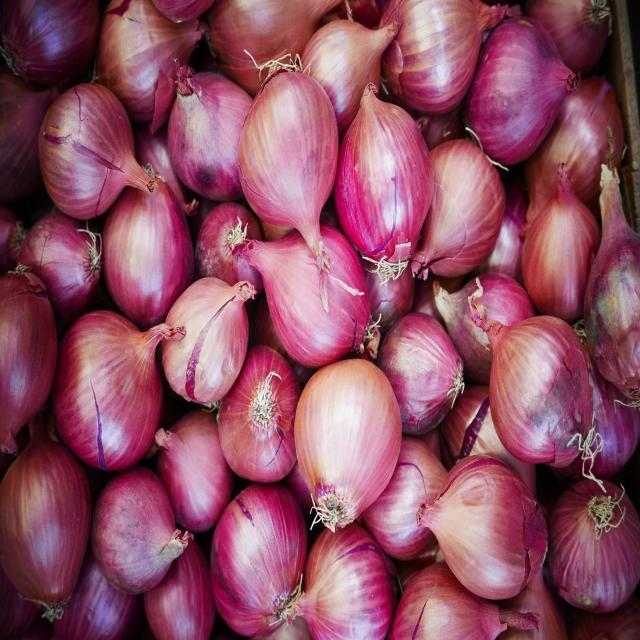onion: (294, 359, 398, 522), (238, 70, 335, 233), (58, 313, 158, 464), (435, 456, 543, 594), (489, 314, 588, 464), (0, 442, 88, 609), (207, 489, 307, 633), (260, 231, 366, 362), (337, 98, 423, 253), (482, 16, 567, 154), (553, 475, 640, 609), (41, 81, 131, 209), (101, 192, 192, 315), (91, 464, 170, 597), (303, 522, 392, 638), (386, 0, 479, 109), (433, 143, 503, 274), (166, 276, 243, 394), (168, 71, 240, 190), (393, 310, 462, 423), (523, 194, 585, 314)
